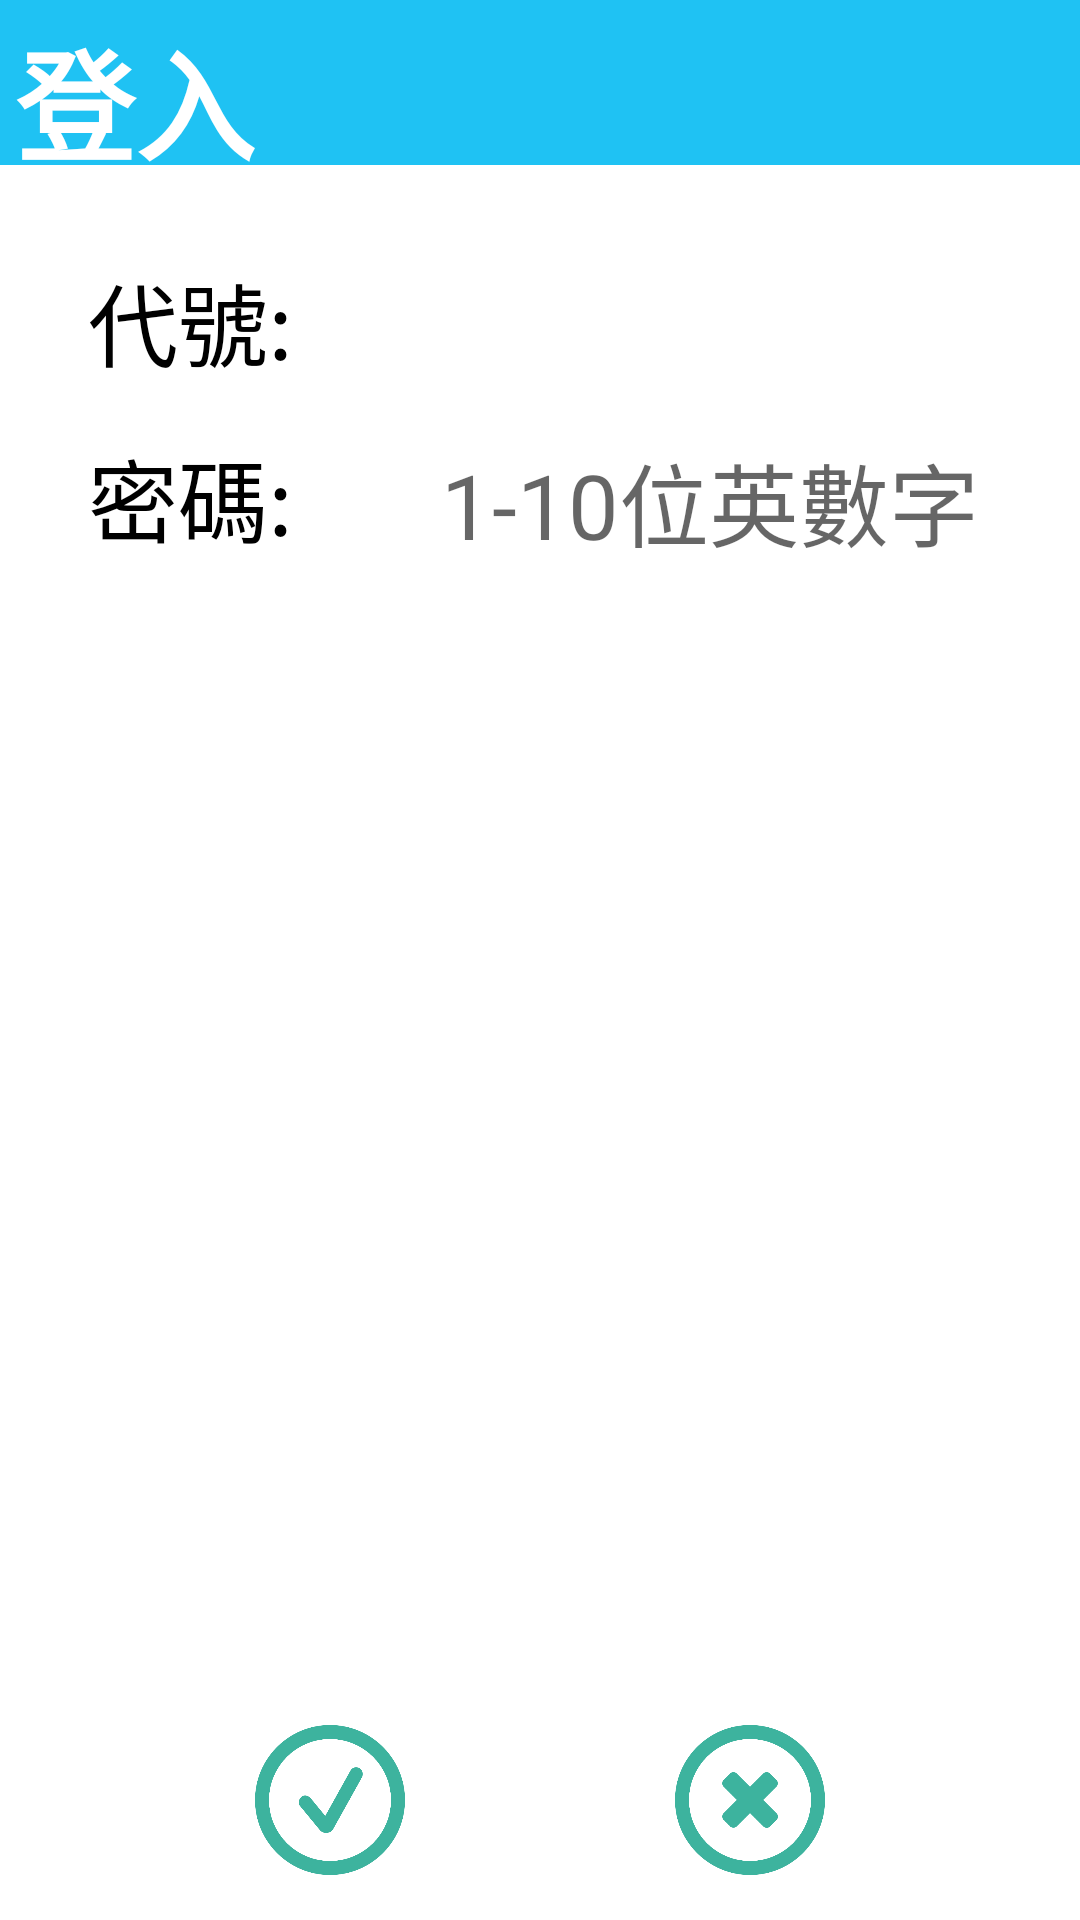

Screen size 1080px×1920px. Icon name, then its center in pixels as [x,y]:
checked: [330,1800]
multiply: [750,1800]
